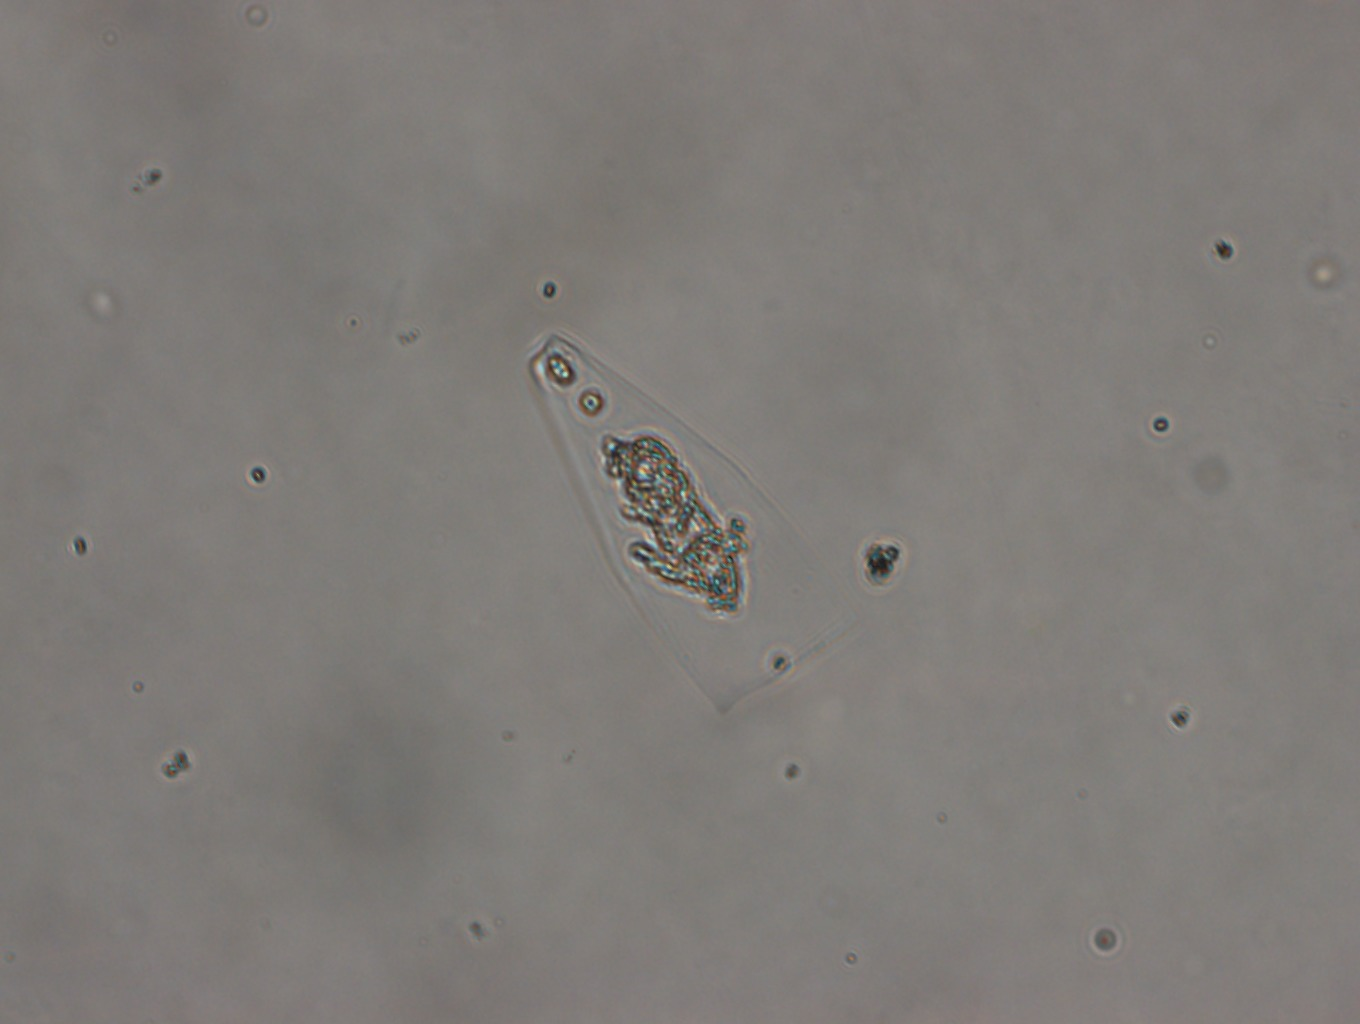helicotheca: (525, 329, 860, 715)
